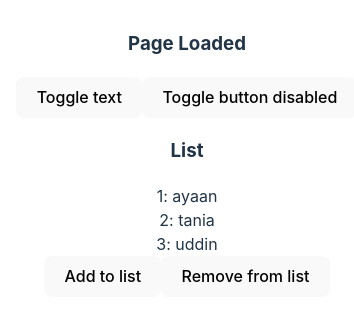
Scenario: Toggle text visible
// Simulate a click on the "toggle text" button
Click the button "Toggle text" at (79, 97), box [16,77,142,118]
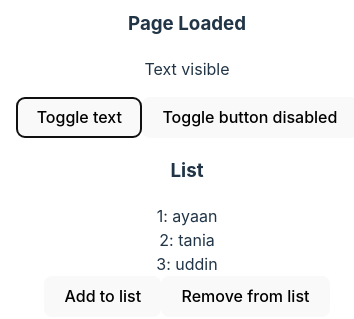
Expected: the text "Text visible" is shown, [144,59,230,79]
